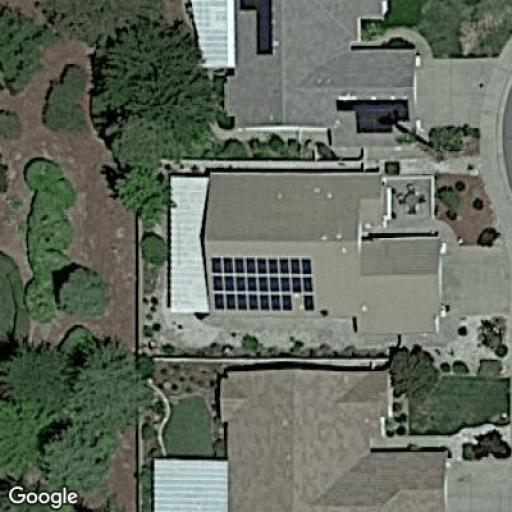solar-panel: (209, 254, 317, 314), (336, 96, 410, 134), (237, 0, 277, 58)
